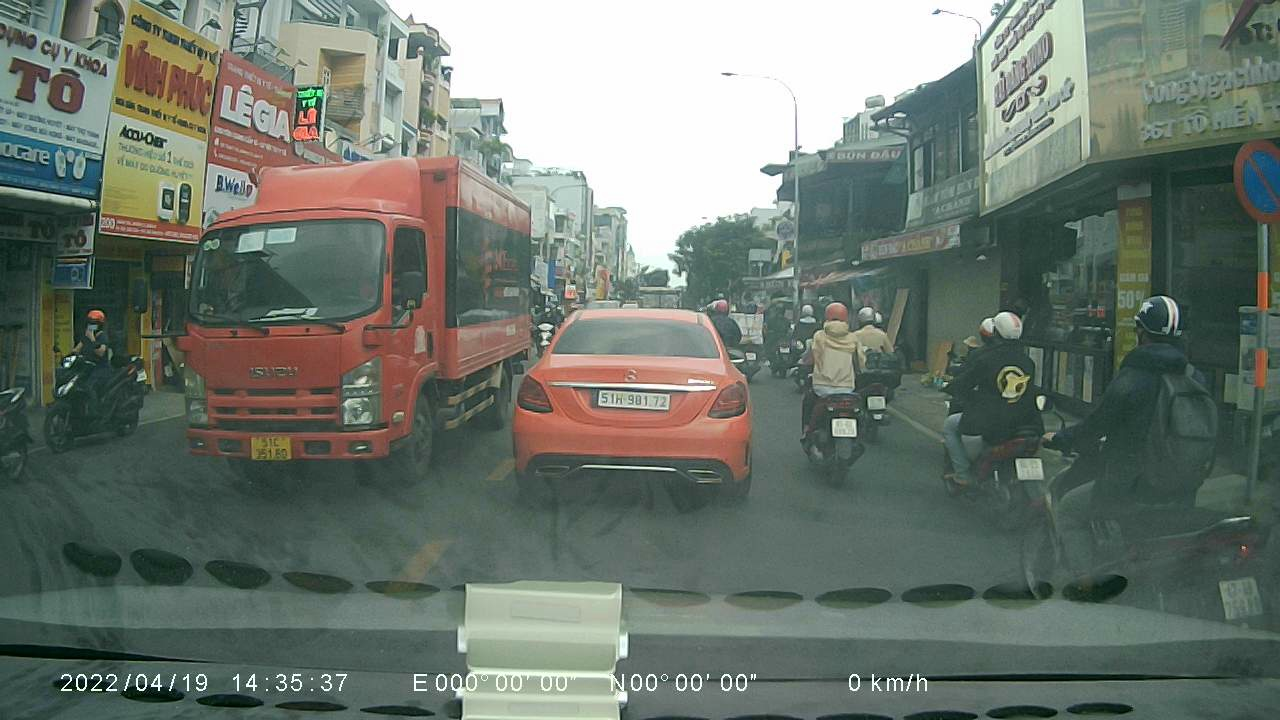Cam do xe: (1230, 134, 1279, 227)
